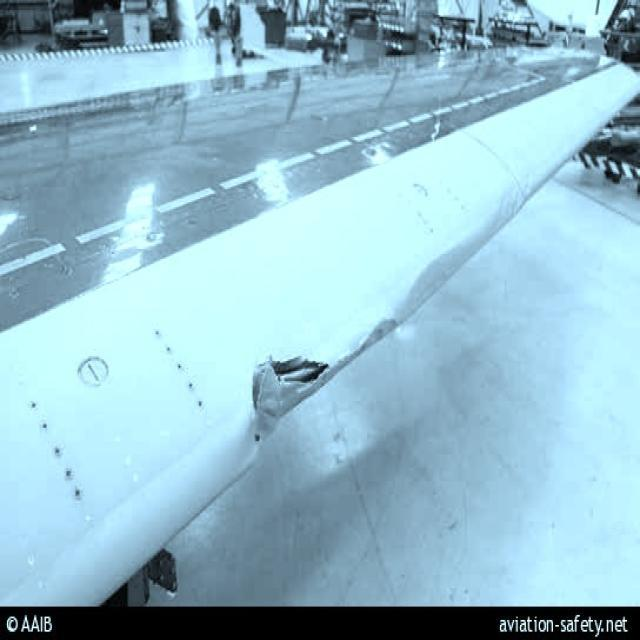crack: (239, 349, 327, 457)
dent: (397, 232, 492, 331)
